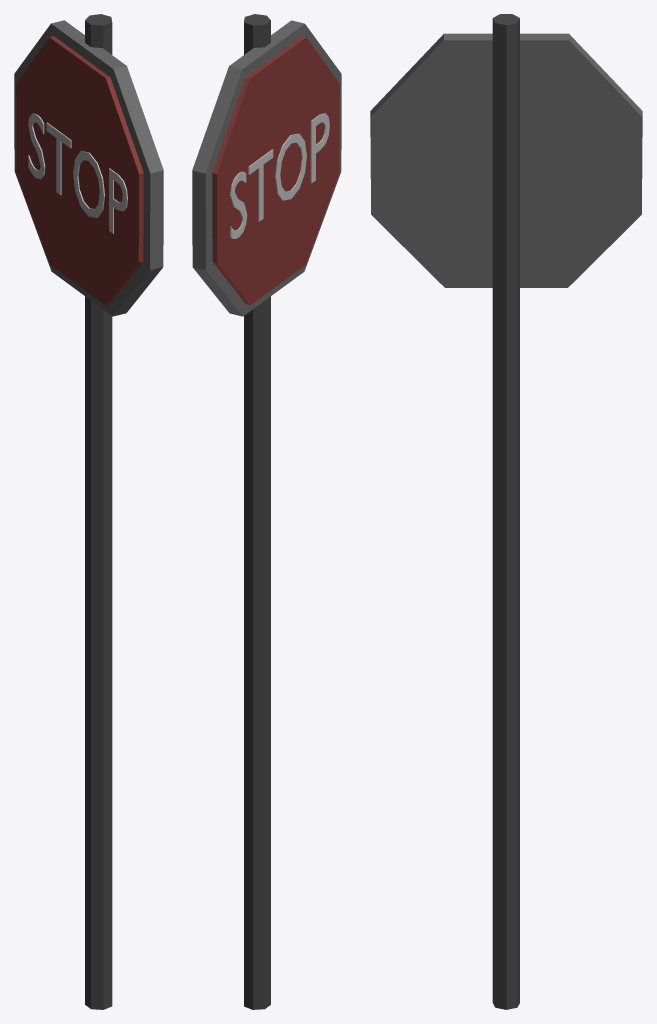
File: StopSign.fbx
The picture shows the model from 3 angles, left to right: view 1: azimuth 30°, elevation 25°; view 2: azimuth 150°, elevation 25°; view 3: azimuth 270°, elevation 25°; orthographic projection.
Parts seen in each view (by area): view 1: StopSign_LOD0; view 2: StopSign_LOD0; view 3: StopSign_LOD0.
Boxes of the visible parts, x1,y1,x2,y2 form: StopSign_LOD0: (14, 14, 163, 1009); StopSign_LOD0: (192, 14, 341, 1009); StopSign_LOD0: (370, 14, 642, 1009).
Size of what is drawn, in the model's own units: 25.33 by 686 by 172.
Materials: 1 (1 with a texture image).
